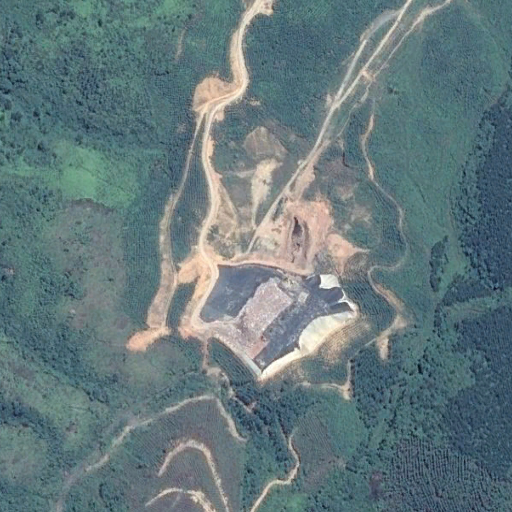lf: (197, 264, 360, 376)
